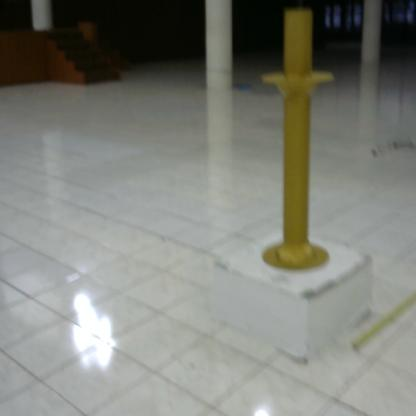pole: (257, 2, 337, 277)
